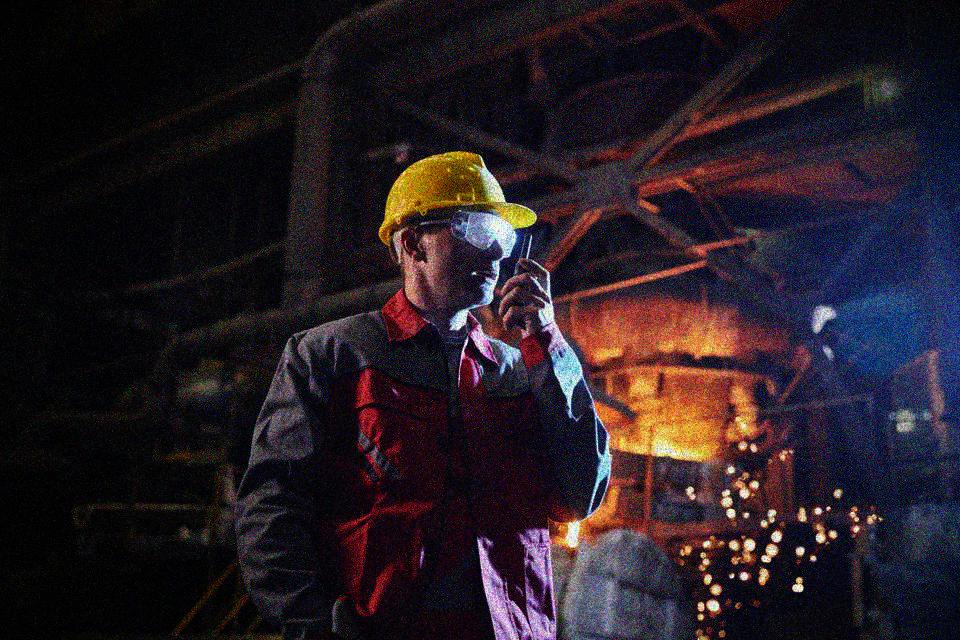helmet: (376, 150, 538, 304)
